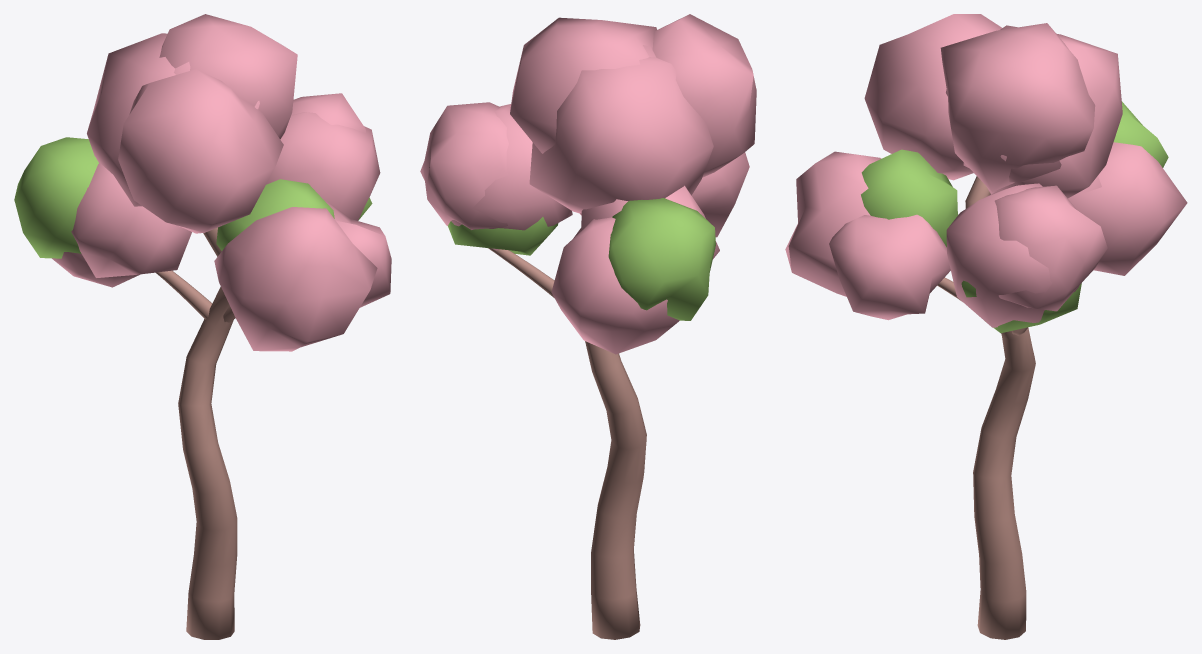
Rendered from arbre_spirale.glb.
3 views of the same model, side by side, from view 1: azimuth 30°, elevation 25°; view 2: azimuth 150°, elevation 25°; view 3: azimuth 270°, elevation 25° (orthographic). The views are drawn at different scales.
Parts seen in each view (by area): view 1: feuillage.011, feuillage.008, tronc, feuillage.010, feuillage.003, feuillage.002, feuillage.005, feuillage.009, feuillage.007, feuillage.006, feuillage.001, feuillage.004 (+1 smaller); view 2: feuillage.009, tronc, feuillage.005, feuillage.010, feuillage.011, feuillage.004, feuillage.001, feuillage.002, feuillage.008, feuillage, feuillage.003, branche; view 3: feuillage.010, tronc, feuillage.011, feuillage.006, feuillage.004, feuillage.002, feuillage.001, feuillage.008, feuillage.009, feuillage.007, feuillage.005, feuillage (+1 smaller).
Part boxes in pixels (x1=…): feuillage.011: x1=118, y1=69, x2=283, y2=233; feuillage.008: x1=214, y1=207, x2=377, y2=351; tronc: x1=178, y1=227, x2=237, y2=639; feuillage.010: x1=159, y1=14, x2=297, y2=139; feuillage.003: x1=71, y1=162, x2=191, y2=277; feuillage.002: x1=266, y1=112, x2=380, y2=220; feuillage.005: x1=14, y1=137, x2=98, y2=258; feuillage.009: x1=87, y1=33, x2=175, y2=206; feuillage.007: x1=216, y1=179, x2=334, y2=250; feuillage.006: x1=323, y1=199, x2=391, y2=307; feuillage.001: x1=291, y1=93, x2=365, y2=133; feuillage.004: x1=52, y1=252, x2=140, y2=287; feuillage.009: x1=529, y1=57, x2=713, y2=213; tronc: x1=585, y1=341, x2=646, y2=639; feuillage.005: x1=608, y1=198, x2=715, y2=320; feuillage.010: x1=510, y1=17, x2=656, y2=153; feuillage.011: x1=652, y1=14, x2=756, y2=177; feuillage.004: x1=551, y1=217, x2=679, y2=354; feuillage.001: x1=423, y1=102, x2=508, y2=229; feuillage.002: x1=420, y1=104, x2=572, y2=250; feuillage.008: x1=691, y1=152, x2=749, y2=237; feuillage: x1=448, y1=217, x2=558, y2=255; feuillage.003: x1=581, y1=185, x2=719, y2=258; branche: x1=488, y1=248, x2=554, y2=297; feuillage.010: x1=940, y1=23, x2=1095, y2=191; tronc: x1=965, y1=176, x2=1035, y2=639; feuillage.011: x1=864, y1=14, x2=1002, y2=180; feuillage.006: x1=829, y1=214, x2=950, y2=320; feuillage.004: x1=1068, y1=142, x2=1187, y2=275; feuillage.002: x1=946, y1=183, x2=1078, y2=327; feuillage.001: x1=994, y1=185, x2=1107, y2=311; feuillage.008: x1=785, y1=151, x2=881, y2=296; feuillage.009: x1=986, y1=25, x2=1122, y2=198; feuillage.007: x1=861, y1=149, x2=958, y2=247; feuillage.005: x1=1113, y1=101, x2=1168, y2=167; feuillage: x1=961, y1=280, x2=1081, y2=333.
Size of the model in its own units: 4.74 by 8.69 by 5.25.
